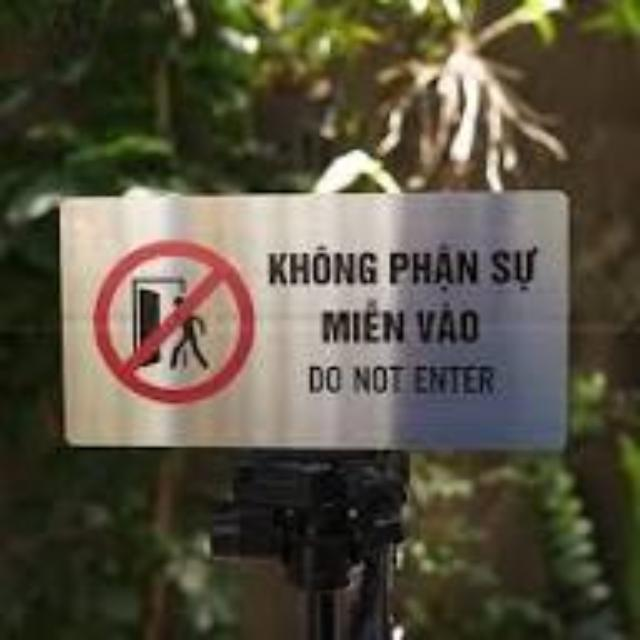no_entry: (60, 190, 567, 447)
